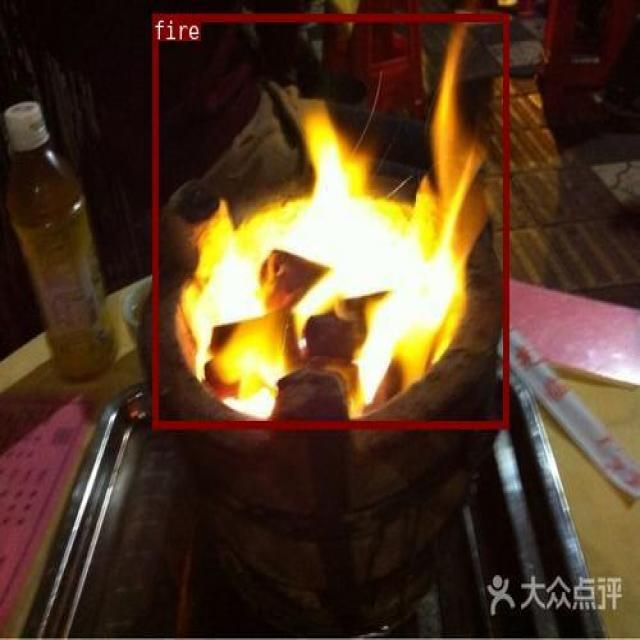fire: (153, 14, 508, 427)
